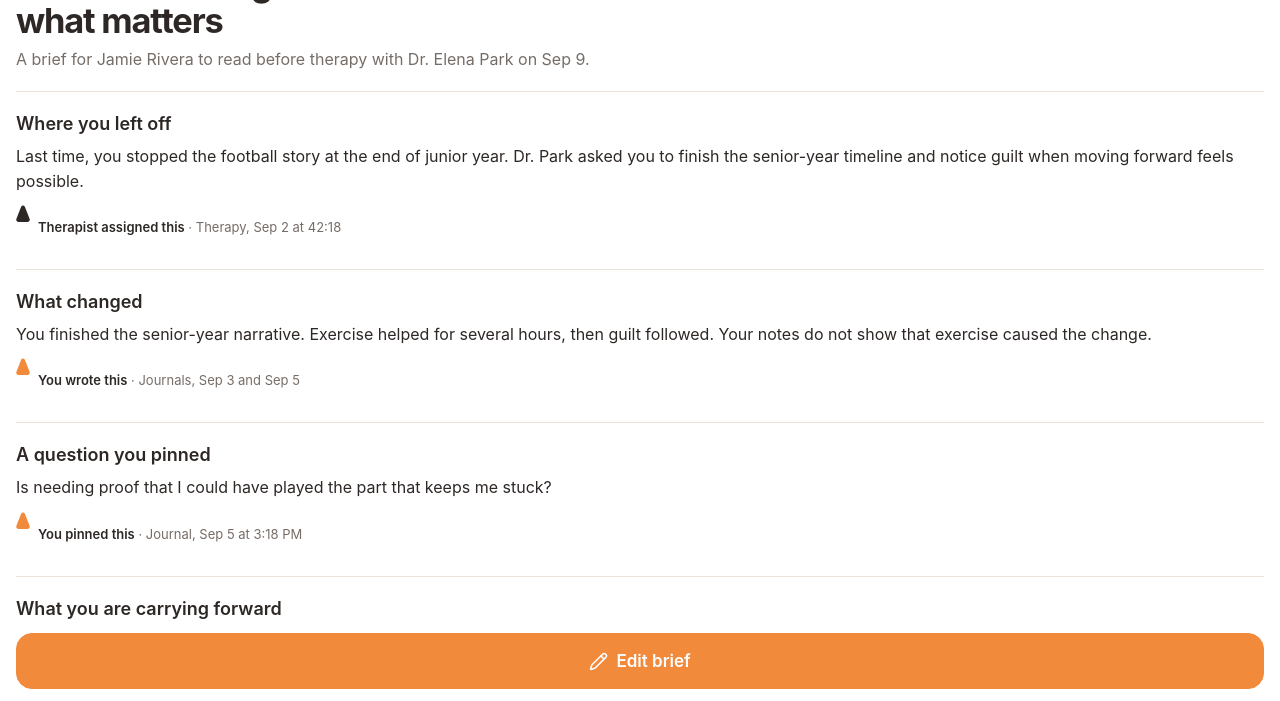
Scenario: PrepareTherapyScreen › cancels without replacing the saved brief and rejects blank sections
This screenshot has width=1280, height=701.
Click the button "Edit brief". click: [640, 661]
box: [16,633,1264,689]
(page scrolled)
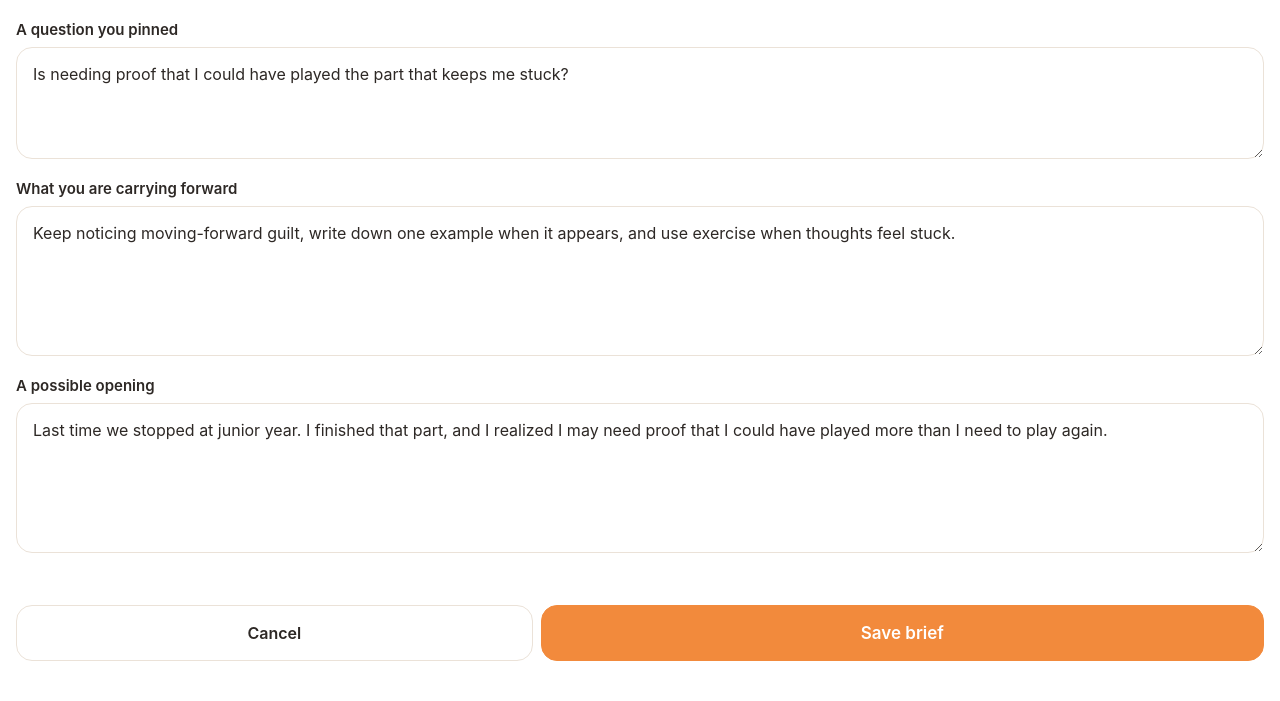
Clear the text box labelled "A possible opening". click: [640, 478]
box: [16,403,1264,553]
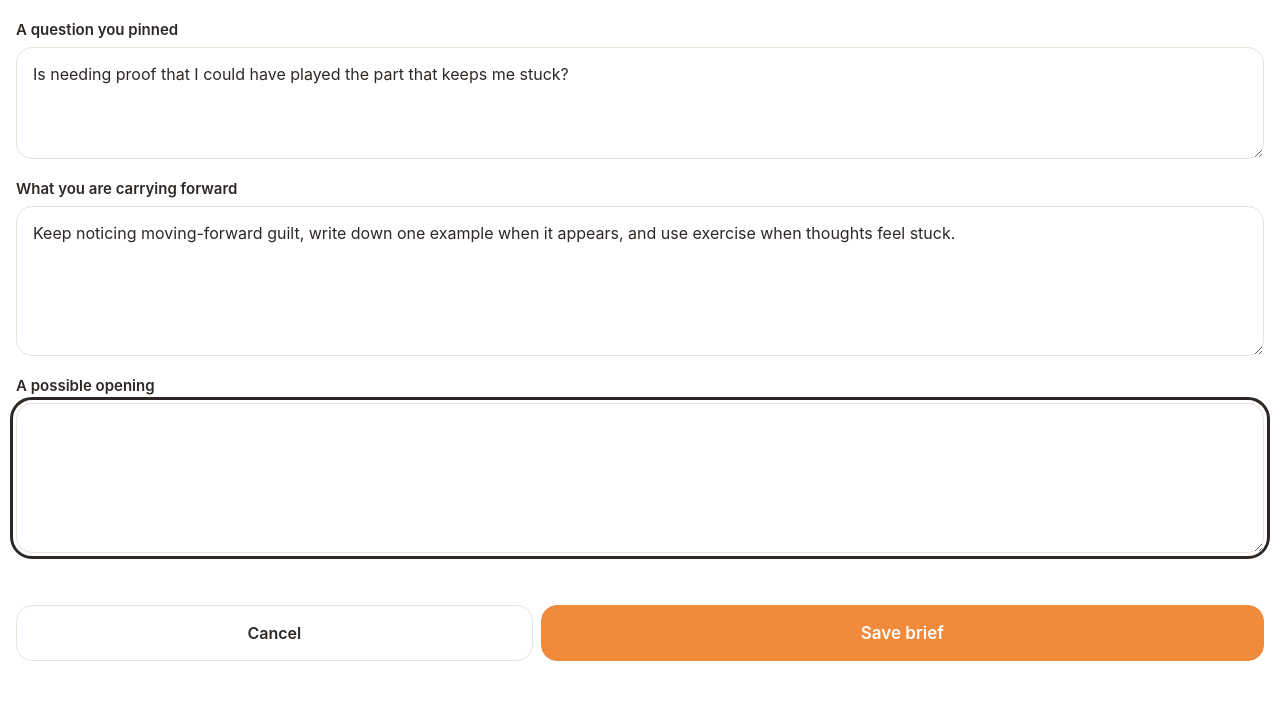
Click the button "Save brief". click: [902, 633]
box: [541,605,1264,661]
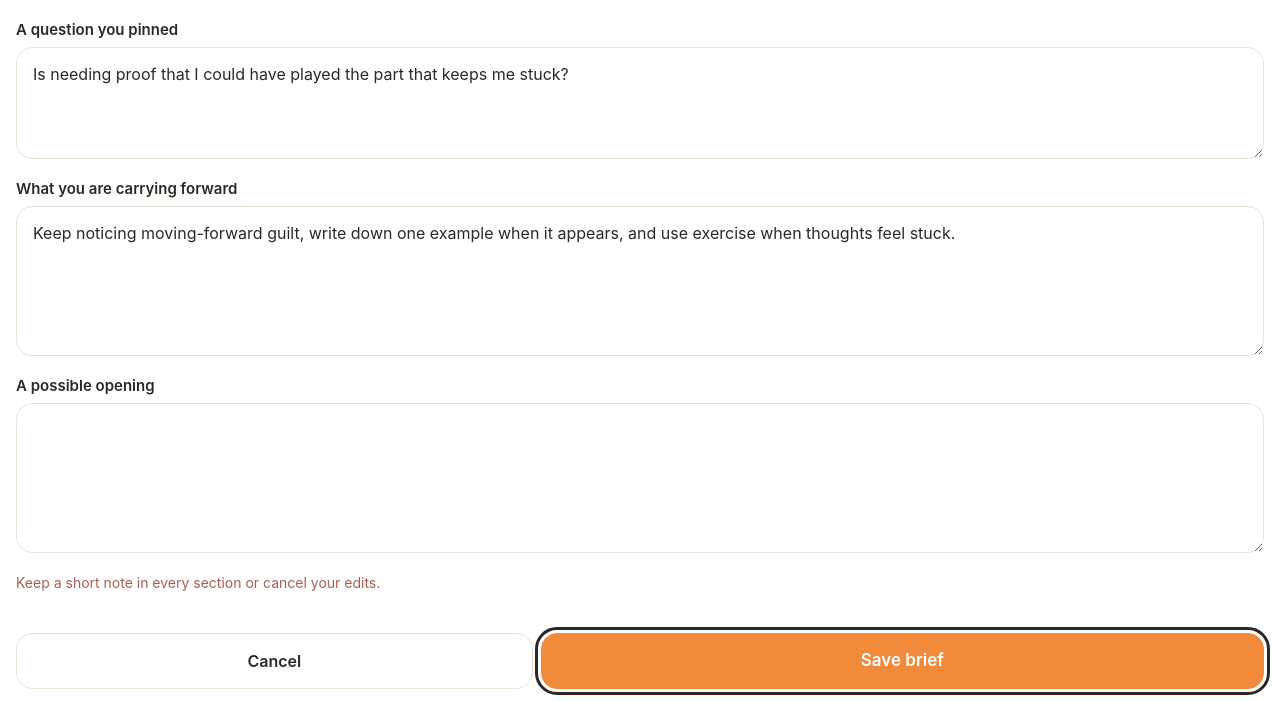
Expected: the message shows "Keep a short note in every section", [16,574,380,591]
Type "A replacement that should be cancelled." into the text box labelled "A possible opening". click: [640, 478]
box: [16,403,1264,553]
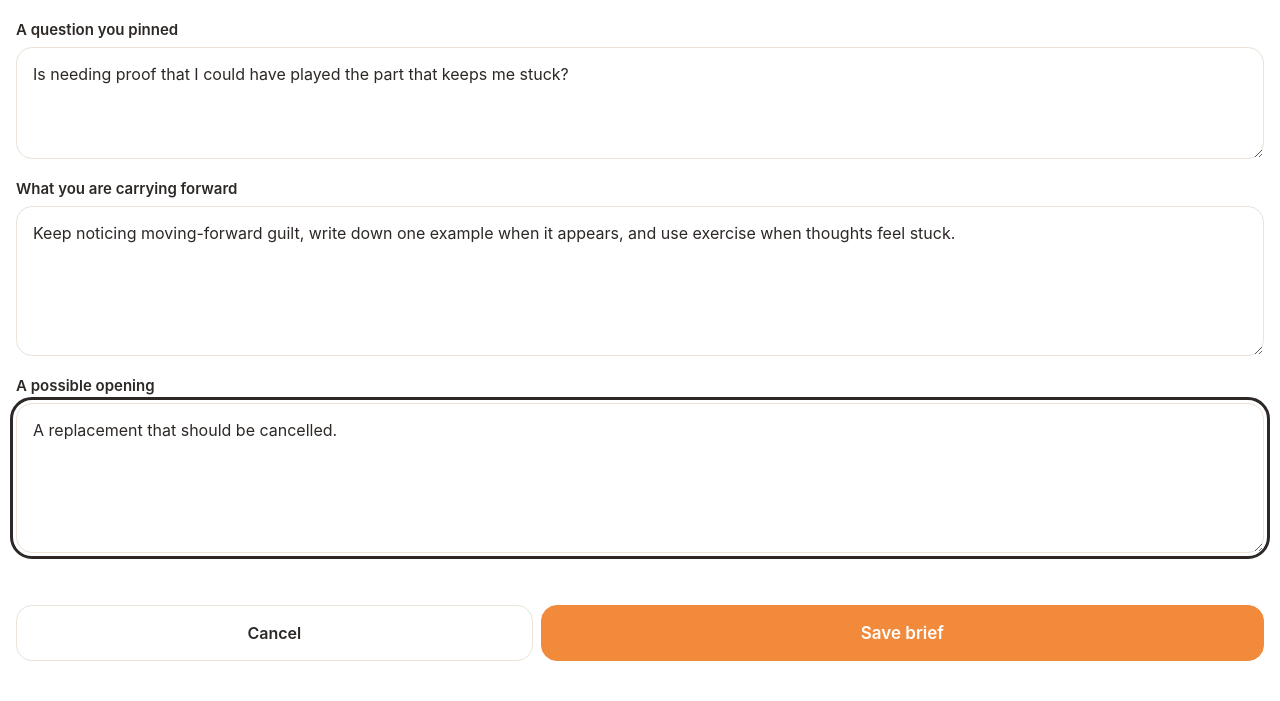
Click the button "Cancel". click: [274, 633]
box: [16,605,533,661]
(page scrolled)
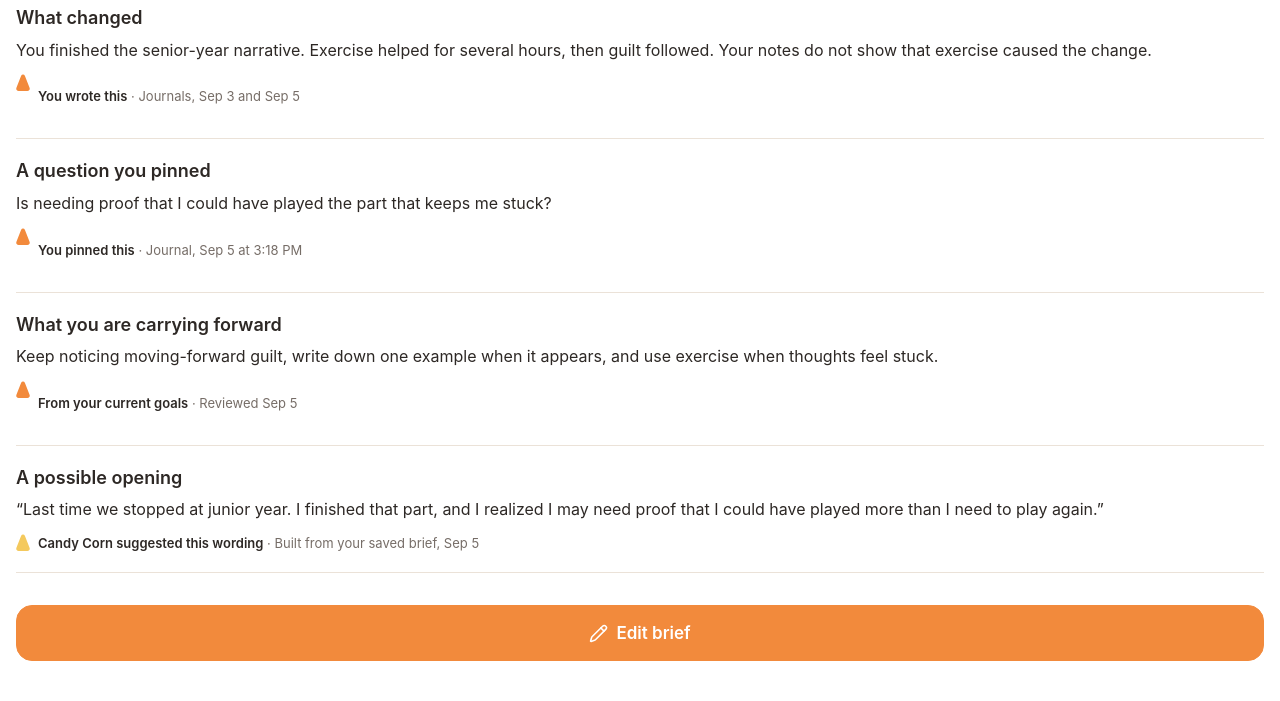
Expected: the text "A replacement that should be cancelled." is not shown
Expected: the text "I finished that part, and I realized" is shown, [23,499,1097,519]
